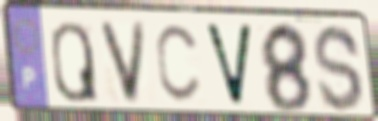8: (257, 19, 316, 115)
C: (153, 22, 203, 107)
Q: (49, 19, 101, 105)
S: (311, 22, 366, 115)
V: (201, 20, 255, 111), (96, 18, 149, 108)
